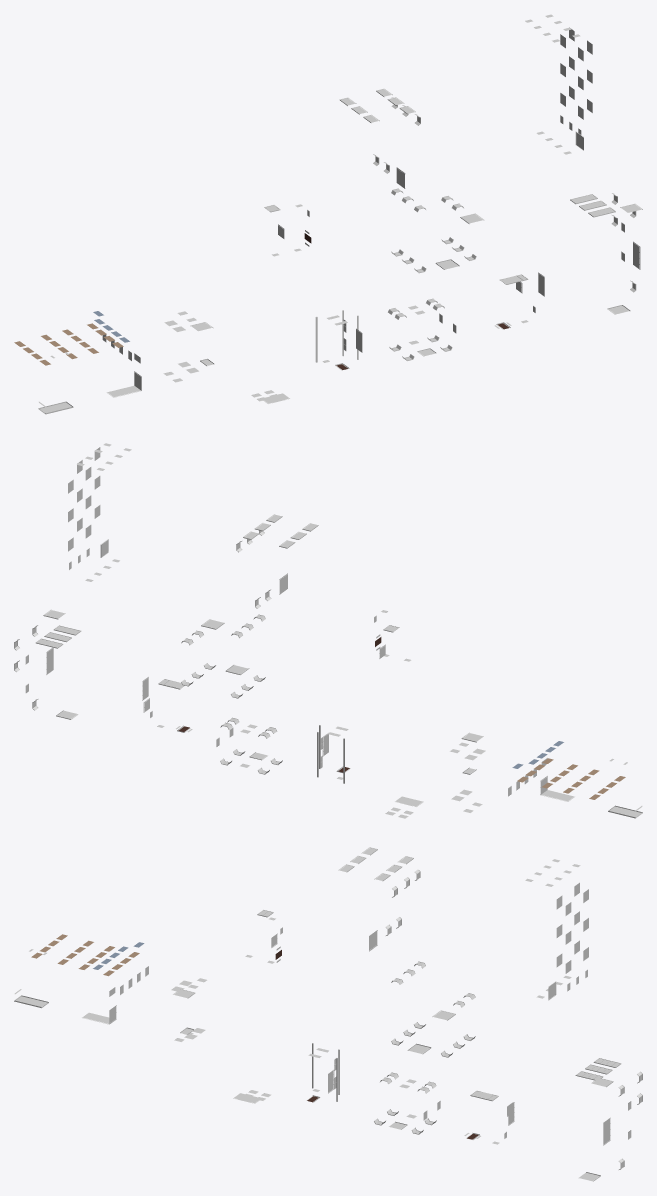
3 renders of one model, top to bottom at view 1: azimuth 30°, elevation 25°; view 2: azimuth 150°, elevation 25°; view 3: azimuth 330°, elevation 25°, orthographic.
Parts seen in each view (by area): view 1: SM_000301.001; view 2: SM_000301.001; view 3: SM_000301.001.
Boxes of the visible parts, box(x1,y1,x2,y2) form: SM_000301.001: box(14, 14, 642, 414); SM_000301.001: box(14, 443, 642, 818); SM_000301.001: box(14, 847, 642, 1181).
Bounding box in the file's own units: 108 × 50.21 × 12.81.
